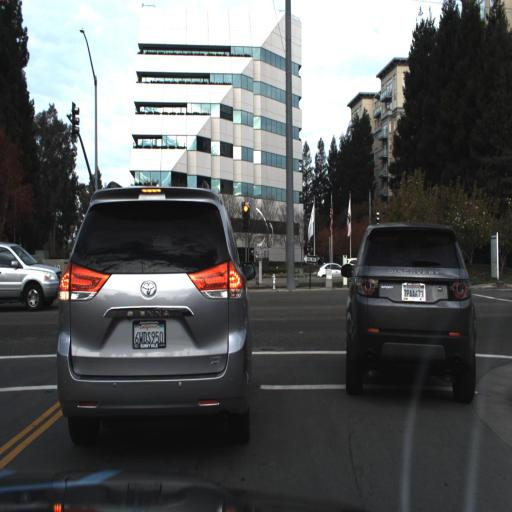car: (58, 178, 263, 449), (330, 201, 476, 405), (1, 225, 62, 316), (318, 263, 355, 285)
trafficLight: (238, 196, 252, 233)
trafficLight-Red: (237, 184, 256, 244)
